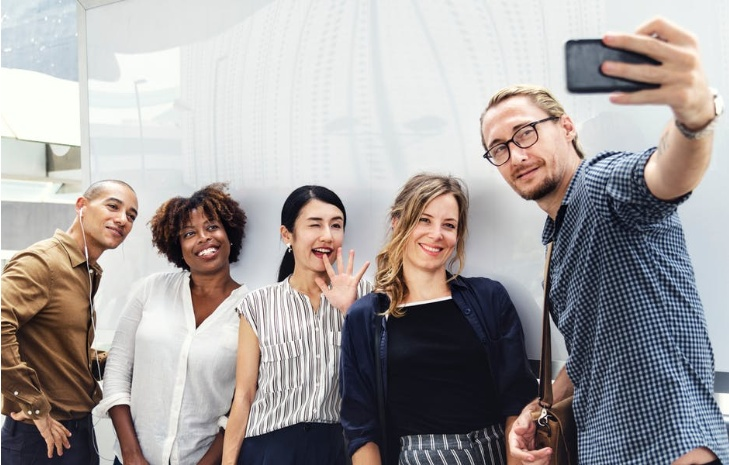face: (481, 96, 560, 198), (404, 194, 458, 270), (294, 199, 347, 272), (180, 207, 233, 271), (89, 187, 137, 249)
